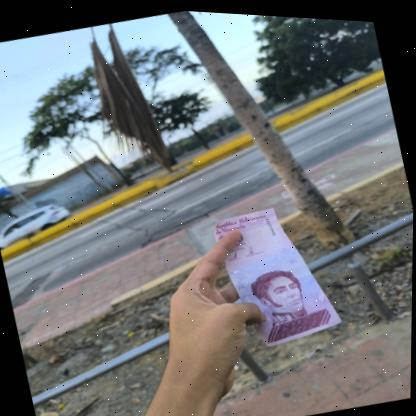one_hundred-front-vef: (209, 191, 348, 354)
